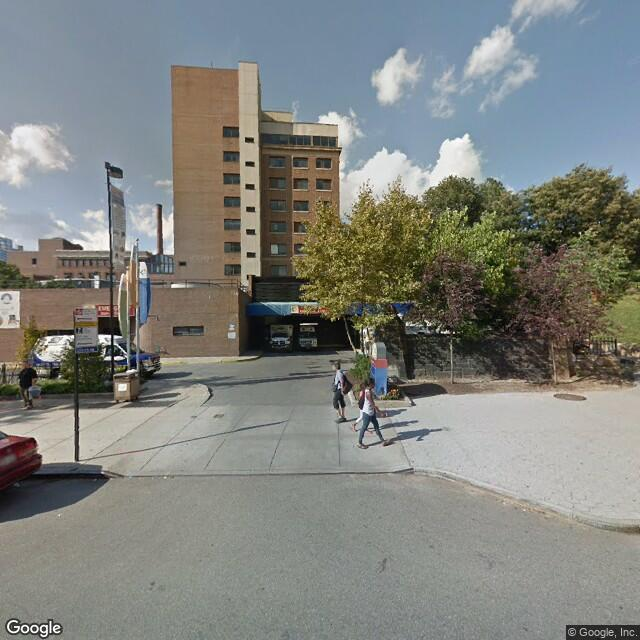litter: (160, 475, 171, 483)
